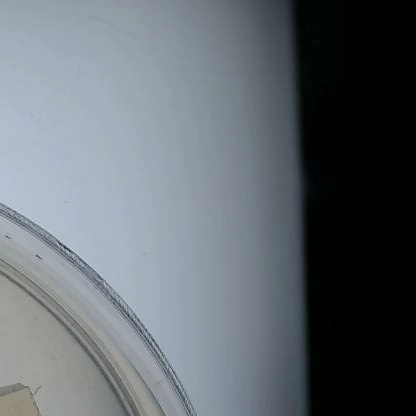worm: (33, 382, 46, 396)
